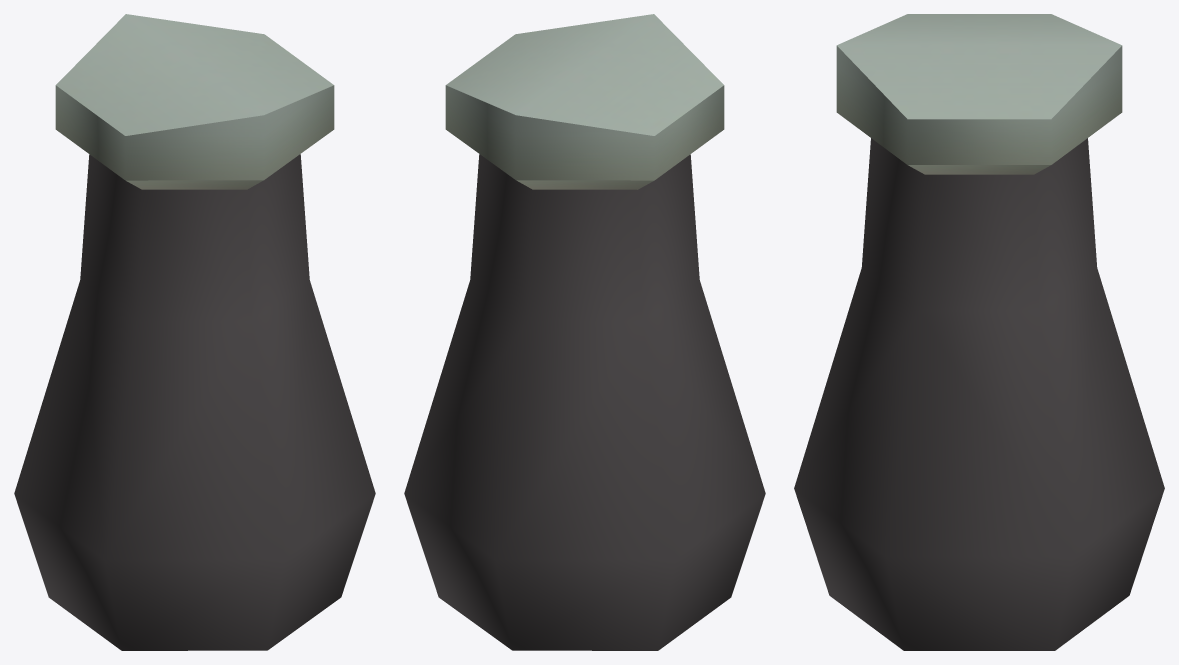
File: SM_Pepper_Shaker_02.fbx
The picture shows the model from 3 angles, left to right: view 1: azimuth 30°, elevation 25°; view 2: azimuth 150°, elevation 25°; view 3: azimuth 270°, elevation 25°; orthographic projection. The views are drawn at different scales.
Parts seen in each view (by area): view 1: SM_Pepper_Shaker_02; view 2: SM_Pepper_Shaker_02; view 3: SM_Pepper_Shaker_02.
Boxes of the visible parts, x1,y1,x2,y2 form: SM_Pepper_Shaker_02: (14,14,375,650); SM_Pepper_Shaker_02: (404,14,765,650); SM_Pepper_Shaker_02: (794,14,1164,650).
Size of the model in its own units: 3.3 by 6.19 by 3.78.
